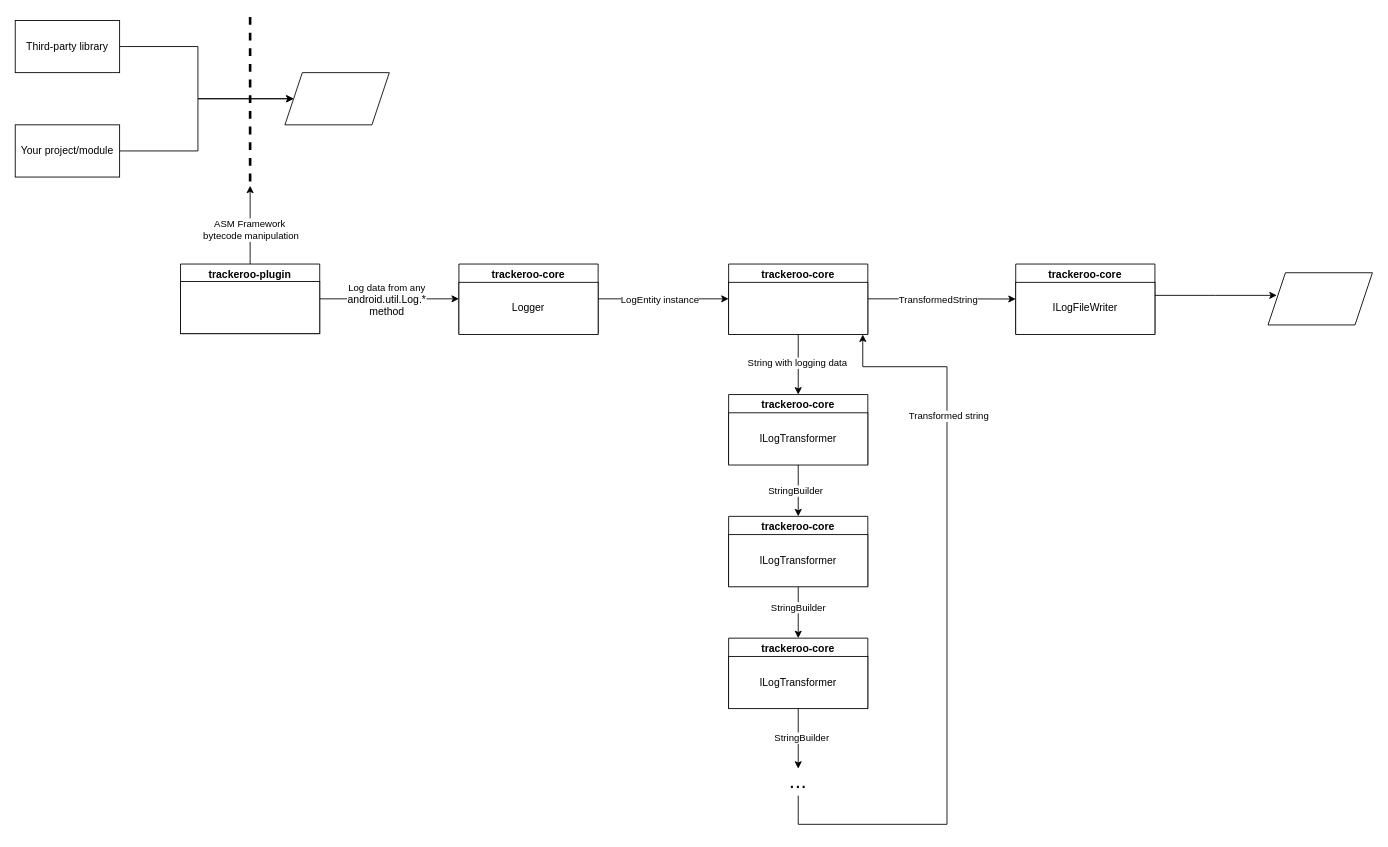
Some shapes in this 1388 by 847 pixel diagram are drawn without their labels. Each missing label, with the centre of its shape:
"android.util.Log call" belongs at (x=336, y=98).
"LogFormatter" belongs at (x=798, y=308).
"LogTransformationFactory" belongs at (x=250, y=307).
"Write data to file" belongs at (x=1319, y=298).
